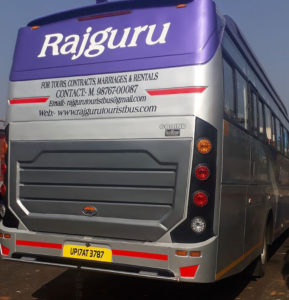bus: (5, 3, 289, 291)
